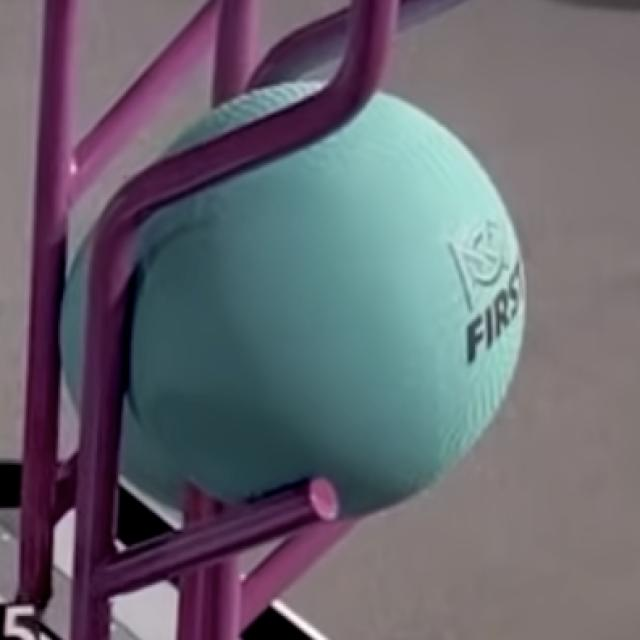Algae: (64, 84, 524, 524)
Reef: (61, 1, 223, 207), (102, 476, 339, 608), (239, 516, 361, 630), (52, 446, 81, 527)
